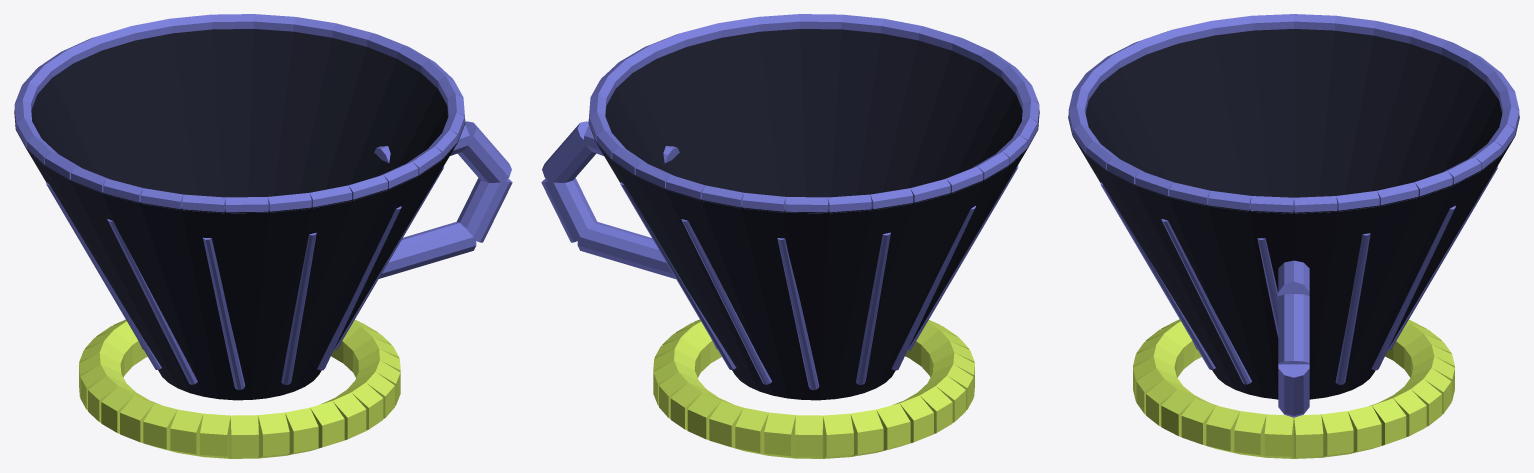
File: dripper.glb
The picture shows the model from 3 angles, left to right: view 1: azimuth 30°, elevation 25°; view 2: azimuth 150°, elevation 25°; view 3: azimuth 270°, elevation 25°; orthographic projection.
Parts seen in each view (by area): view 1: conical wall, handle3, handle2, handle1, flute40, flute30, flute50, support foot9, support foot11, support foot12, support foot10, support foot8 (+40 smaller); view 2: conical wall, handle3, handle2, handle1, flute80, flute70, flute90, support foot22, support foot20, support foot19, support foot21, support foot23 (+40 smaller); view 3: conical wall, handle1, handle2, flute110, flute10, support foot1, support foot30, support foot0, support foot31, support foot2, support foot29, flute100 (+42 smaller).
Part boxes in pixels (x1=…): conical wall: x1=14, y1=29, x2=465, y2=400; handle3: x1=379, y1=221, x2=476, y2=278; handle2: x1=457, y1=178, x2=512, y2=242; handle1: x1=457, y1=121, x2=511, y2=183; flute40: x1=203, y1=237, x2=245, y2=390; flute30: x1=281, y1=232, x2=316, y2=384; flute50: x1=107, y1=219, x2=197, y2=384; support foot9: x1=258, y1=412, x2=289, y2=458; support foot11: x1=200, y1=413, x2=230, y2=458; support foot12: x1=170, y1=409, x2=203, y2=456; support foot10: x1=230, y1=415, x2=258, y2=458; support foot8: x1=285, y1=407, x2=318, y2=455; conical wall: x1=588, y1=29, x2=1039, y2=400; handle3: x1=577, y1=221, x2=675, y2=278; handle2: x1=541, y1=178, x2=596, y2=242; handle1: x1=542, y1=121, x2=596, y2=183; flute80: x1=777, y1=238, x2=819, y2=390; flute70: x1=856, y1=232, x2=890, y2=384; flute90: x1=681, y1=219, x2=771, y2=384; support foot22: x1=764, y1=412, x2=795, y2=458; support foot20: x1=823, y1=413, x2=853, y2=458; support foot19: x1=850, y1=409, x2=883, y2=456; support foot21: x1=795, y1=415, x2=823, y2=458; support foot23: x1=735, y1=407, x2=768, y2=455; conical wall: x1=1068, y1=29, x2=1519, y2=399; handle1: x1=1278, y1=294, x2=1309, y2=364; handle2: x1=1278, y1=364, x2=1309, y2=415; flute110: x1=1335, y1=233, x2=1370, y2=384; flute10: x1=1161, y1=219, x2=1251, y2=384; support foot1: x1=1234, y1=411, x2=1266, y2=457; support foot30: x1=1321, y1=411, x2=1353, y2=457; support foot0: x1=1264, y1=414, x2=1293, y2=458; support foot31: x1=1294, y1=414, x2=1323, y2=458; support foot2: x1=1206, y1=405, x2=1239, y2=454; support foot29: x1=1348, y1=405, x2=1381, y2=454; flute100: x1=1371, y1=205, x2=1455, y2=370.
Size of the model in its own units: 1.57 by 0.947 by 1.32.
